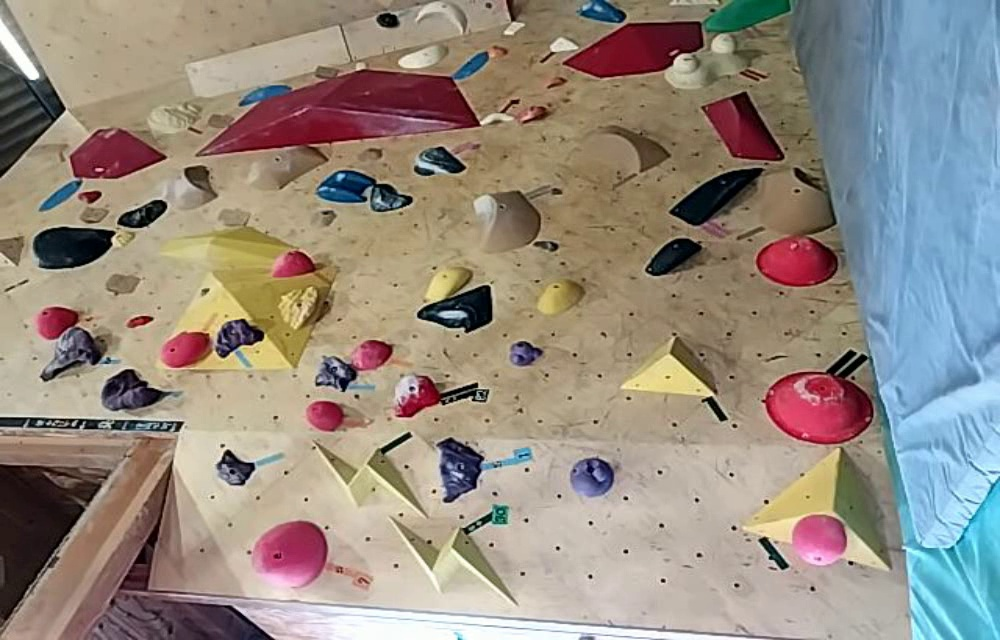cluster1: (155, 250, 340, 373)
cluster10: (37, 126, 220, 228)
cluster11: (470, 127, 672, 254)
cluster12: (564, 22, 784, 160)
cluster13: (194, 44, 553, 155)
cluster2: (301, 334, 440, 435)
cluster3: (418, 265, 584, 366)
cluster4: (216, 439, 517, 602)
cluster5: (738, 372, 892, 572)
cluster6: (571, 332, 716, 499)
cluster7: (646, 169, 839, 286)
cluster8: (32, 227, 165, 410)
cluster9: (256, 142, 465, 213)
